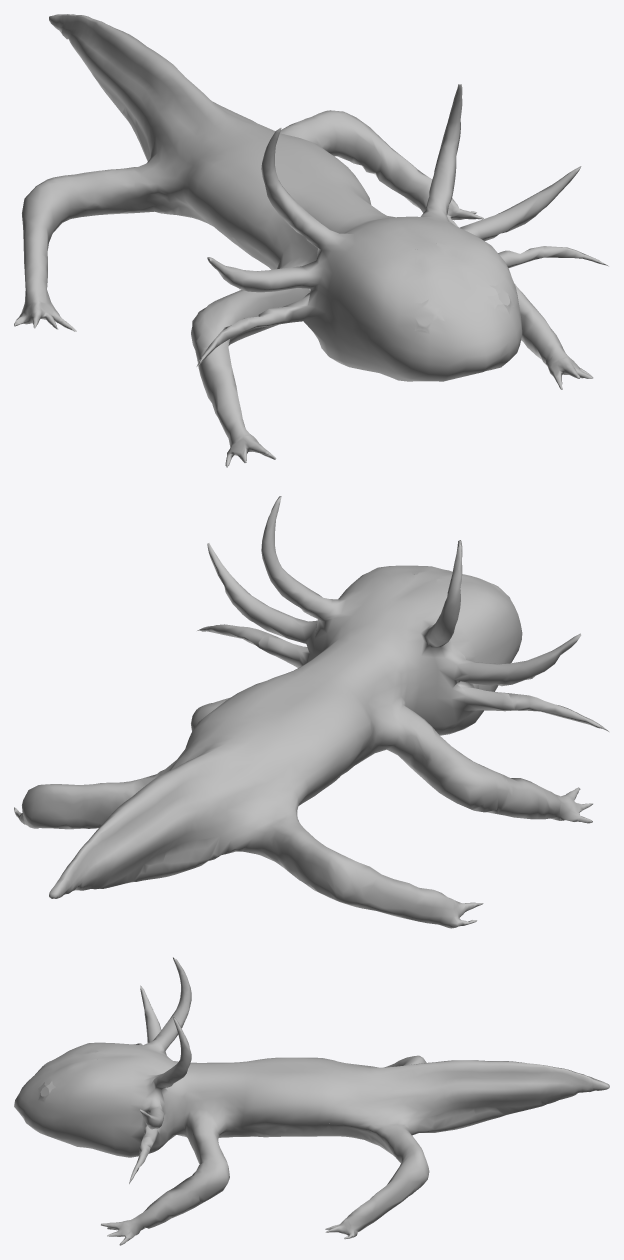
File: axolotl_static.glb
The picture shows the model from 3 angles, top to bottom: view 1: azimuth 30°, elevation 25°; view 2: azimuth 150°, elevation 25°; view 3: azimuth 270°, elevation 25°; orthographic projection. The views are drawn at different scales.
Parts seen in each view (by area): view 1: RetopoDONE:RetopoGroup1; view 2: RetopoDONE:RetopoGroup1; view 3: RetopoDONE:RetopoGroup1.
Boxes of the visible parts, x1,y1,x2,y2 form: RetopoDONE:RetopoGroup1: (14,14,608,467); RetopoDONE:RetopoGroup1: (14,496,608,928); RetopoDONE:RetopoGroup1: (14,957,609,1245).
Size of the model in its own units: 1.23 by 0.7298 by 2.
Materials: 1 (1 with a texture image).
